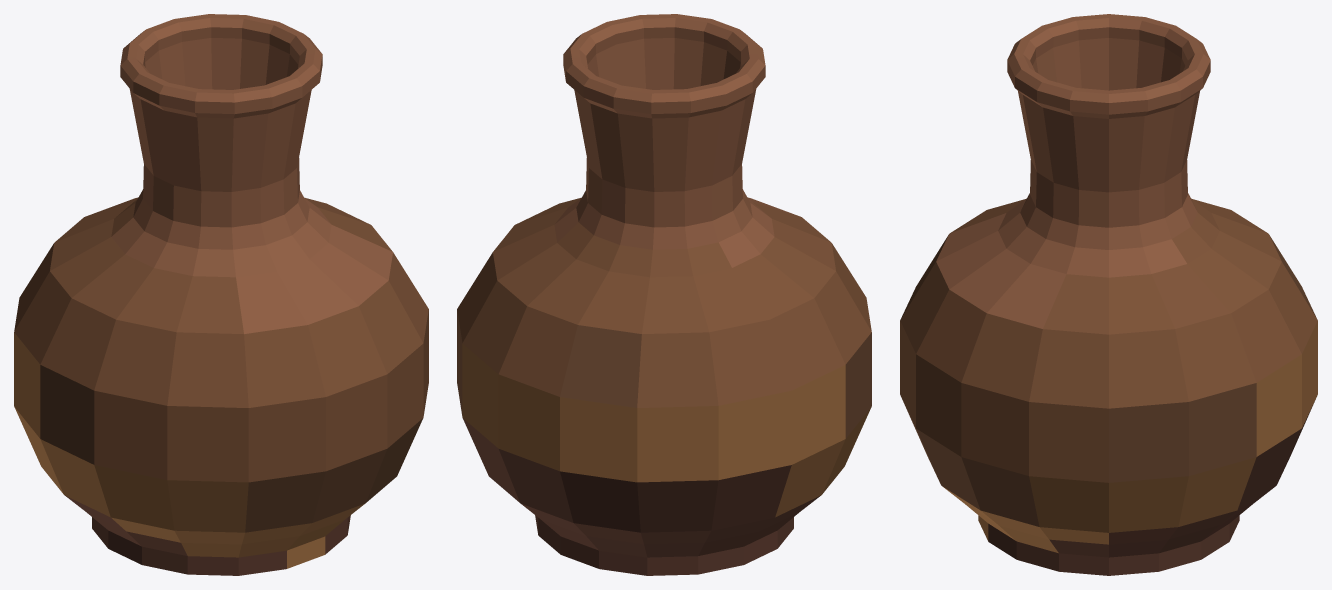
The model's file is fixed_vase_002.glb.
3 renders of one model, left to right at view 1: azimuth 30°, elevation 25°; view 2: azimuth 150°, elevation 25°; view 3: azimuth 270°, elevation 25°, orthographic.
Parts seen in each view (by area): view 1: Vase.002; view 2: Vase.002; view 3: Vase.002.
Boxes of the visible parts, left/top/right/bottom form: Vase.002: left=14, top=14, right=428, bottom=575; Vase.002: left=457, top=14, right=871, bottom=575; Vase.002: left=900, top=14, right=1317, bottom=575.
Bounding box in the file's own units: 0.2028 × 0.25 × 0.2028.
